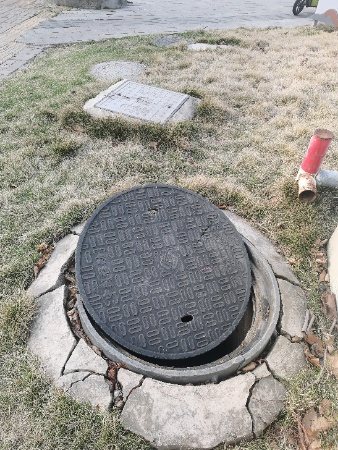good: (94, 78, 192, 130)
uncovered: (74, 183, 282, 381)
